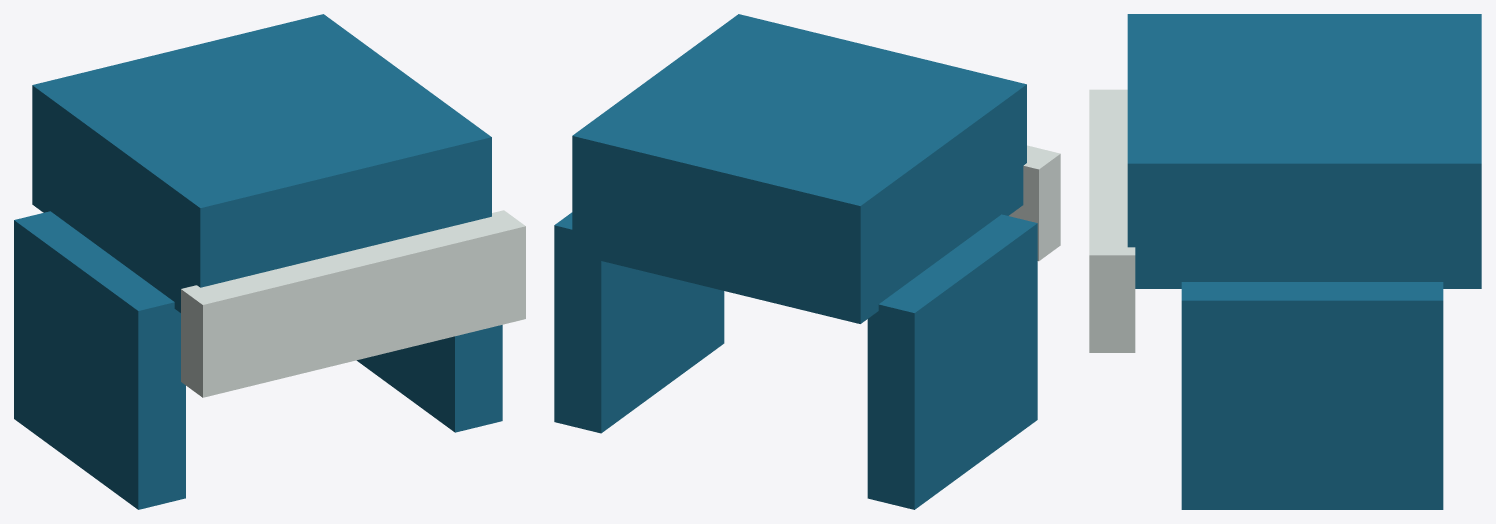
The model's file is winter_ushanka.glb.
3 renders of one model, left to right at view 1: azimuth 30°, elevation 25°; view 2: azimuth 150°, elevation 25°; view 3: azimuth 270°, elevation 25°, orthographic. The views are drawn at different scales.
Visible parts, largest first — view 1: winter_ushanka; view 2: winter_ushanka; view 3: winter_ushanka.
Boxes of the visible parts, x1,y1,x2,y2 form: winter_ushanka: (14, 14, 525, 509); winter_ushanka: (554, 14, 1060, 509); winter_ushanka: (1089, 14, 1481, 509).
Size of the model in its own units: 0.575 by 0.47 by 0.51.
